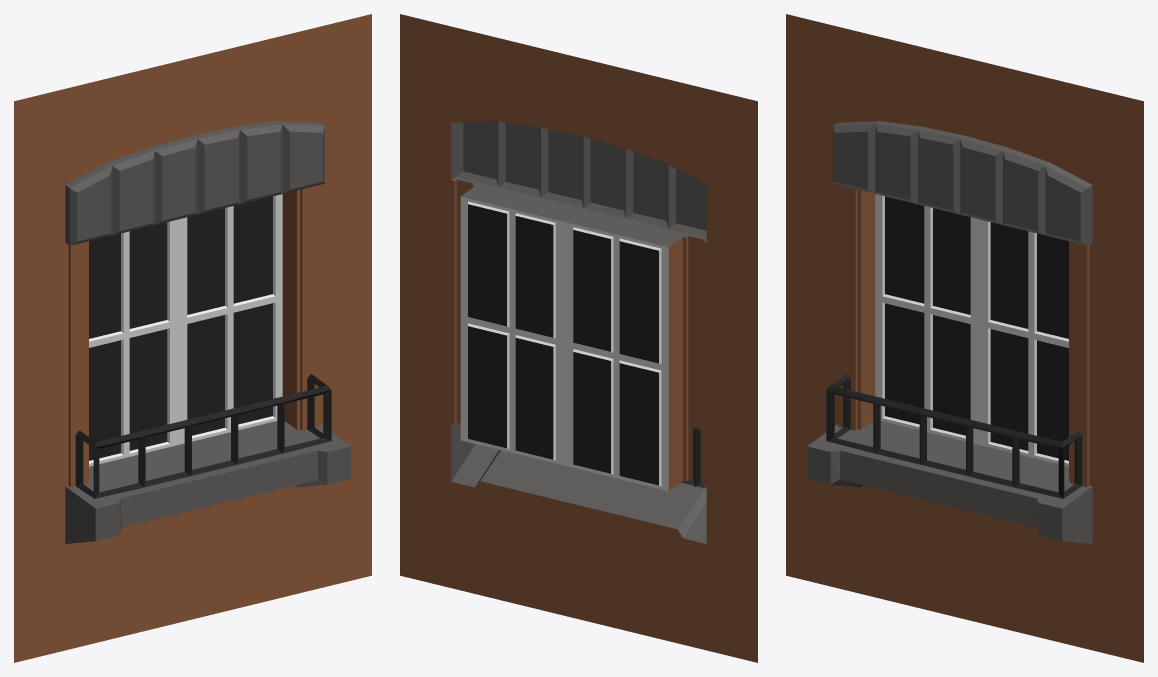
File: 2x3WindowA.fbx
3 views of the same model, side by side, from view 1: azimuth 30°, elevation 25°; view 2: azimuth 150°, elevation 25°; view 3: azimuth 330°, elevation 25° (orthographic).
Visible parts, largest first — view 1: 2x3WindowA; view 2: 2x3WindowA; view 3: 2x3WindowA.
Part boxes in pixels (left/top/right/bottom): 2x3WindowA: left=14, top=14, right=371, bottom=662; 2x3WindowA: left=400, top=14, right=757, bottom=662; 2x3WindowA: left=786, top=14, right=1143, bottom=662.
Bounding box in the file's own units: 200 × 300 × 44.46.
